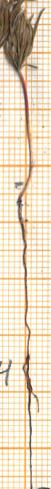flower: (0, 0, 51, 75)
root: (12, 183, 42, 488)
stem: (7, 71, 42, 185)
